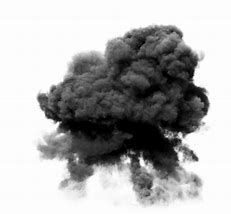smoke: (37, 23, 210, 198)
